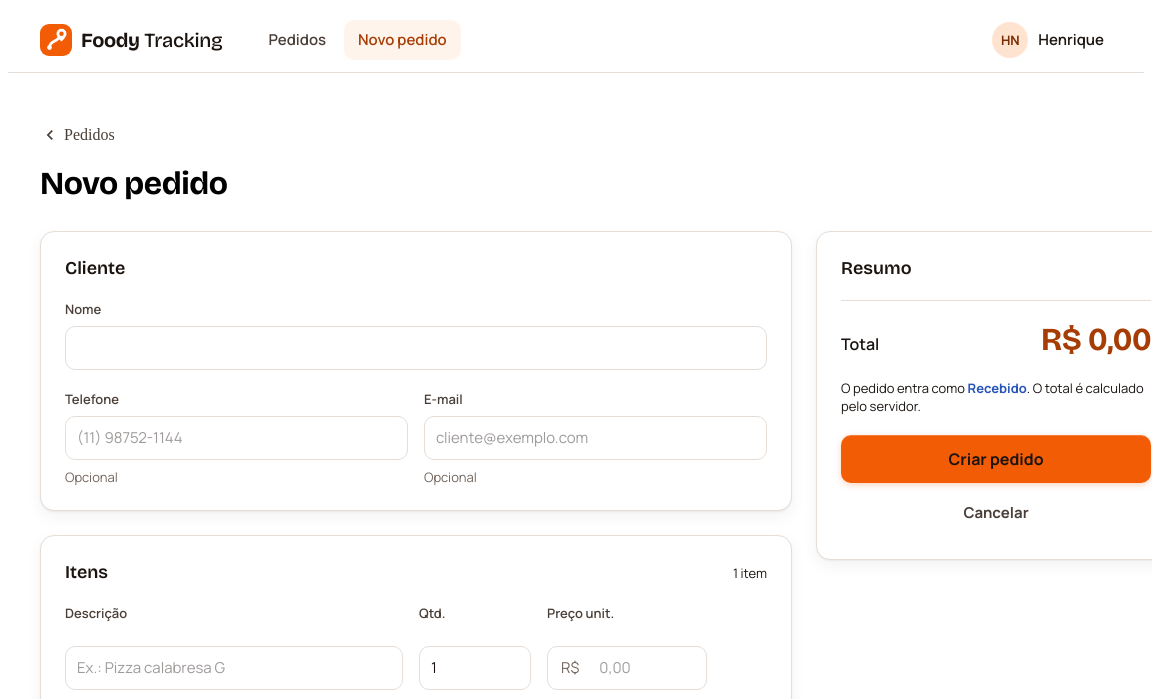
Test: NewOrderPage › masks phone and CEP while typing
The image size is (1164, 699).
Expected: the heading "Novo pedido" is shown, [40,164,227,203]
Type "11987521144" into the field labelled "Telefone" at x=236, y=438, box [65,416,408,460]
(page scrolled)
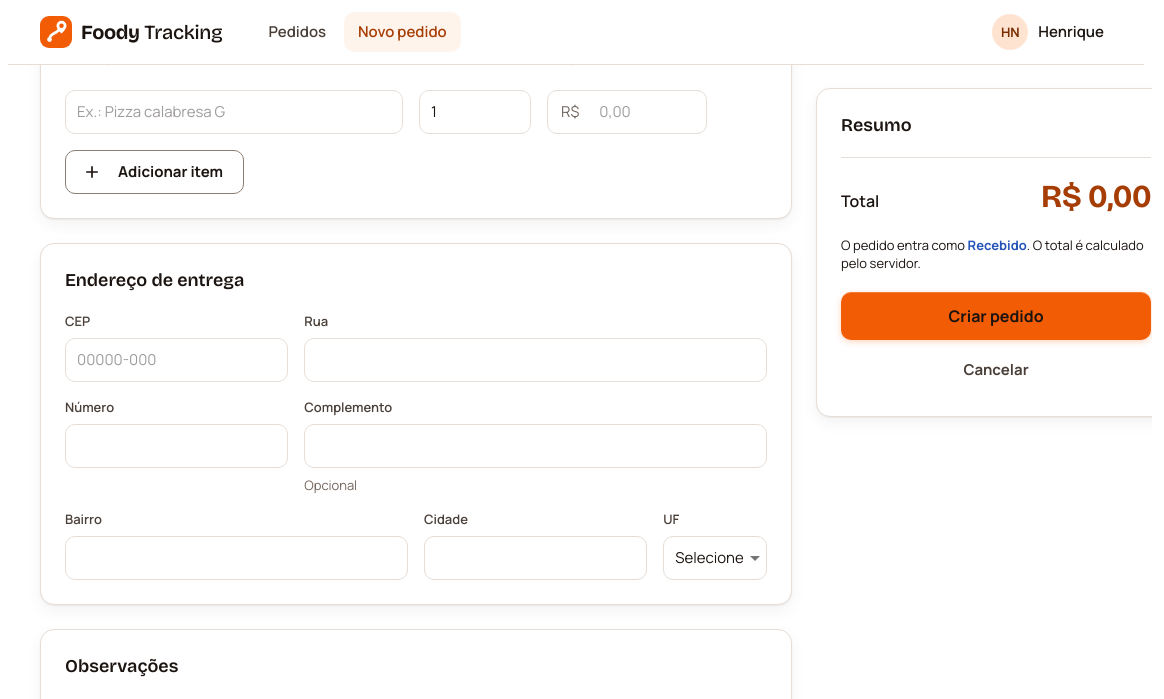
Type "04650140" into the field labelled "CEP" at x=177, y=360, box [65,338,288,382]
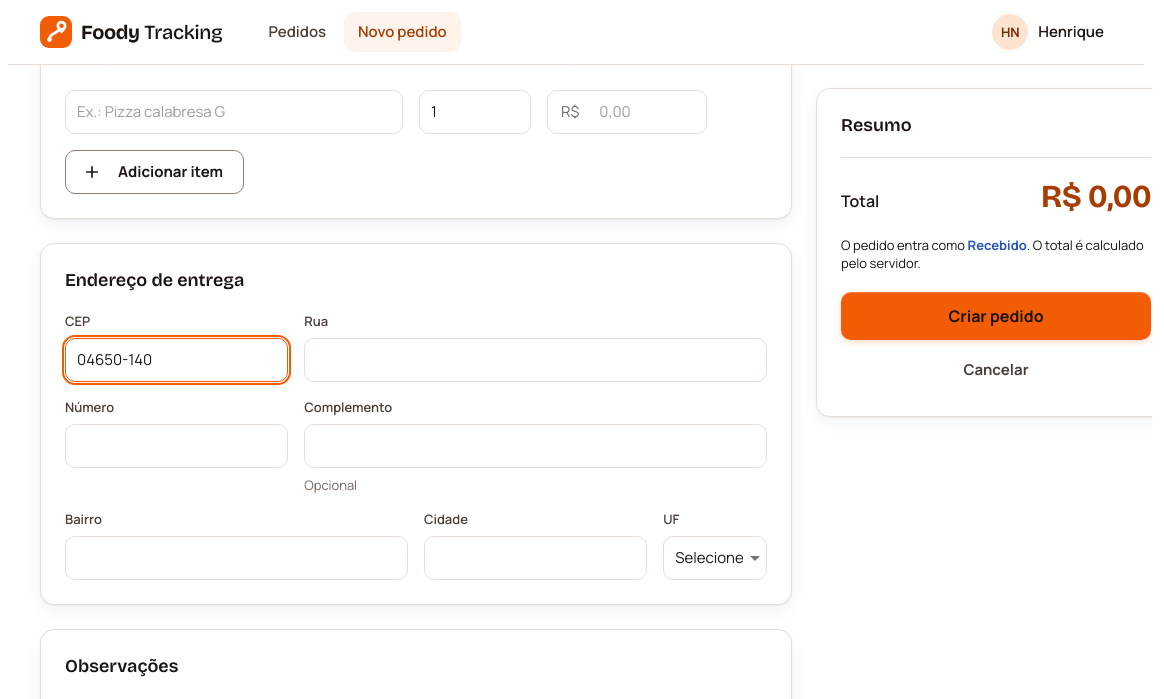
Expected: the field labelled "CEP" holds "04650-140", [65,338,288,382]
